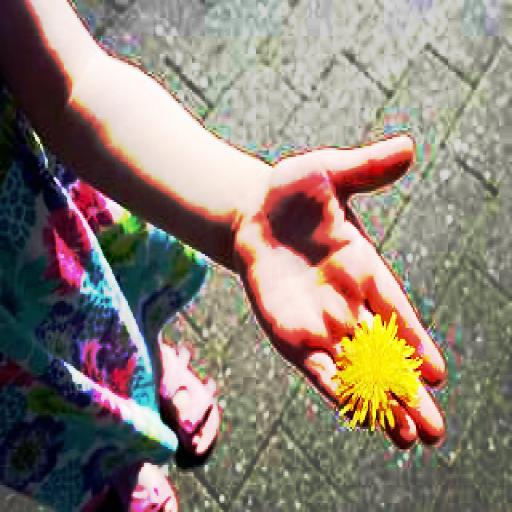dandelion: (334, 312, 422, 431)
